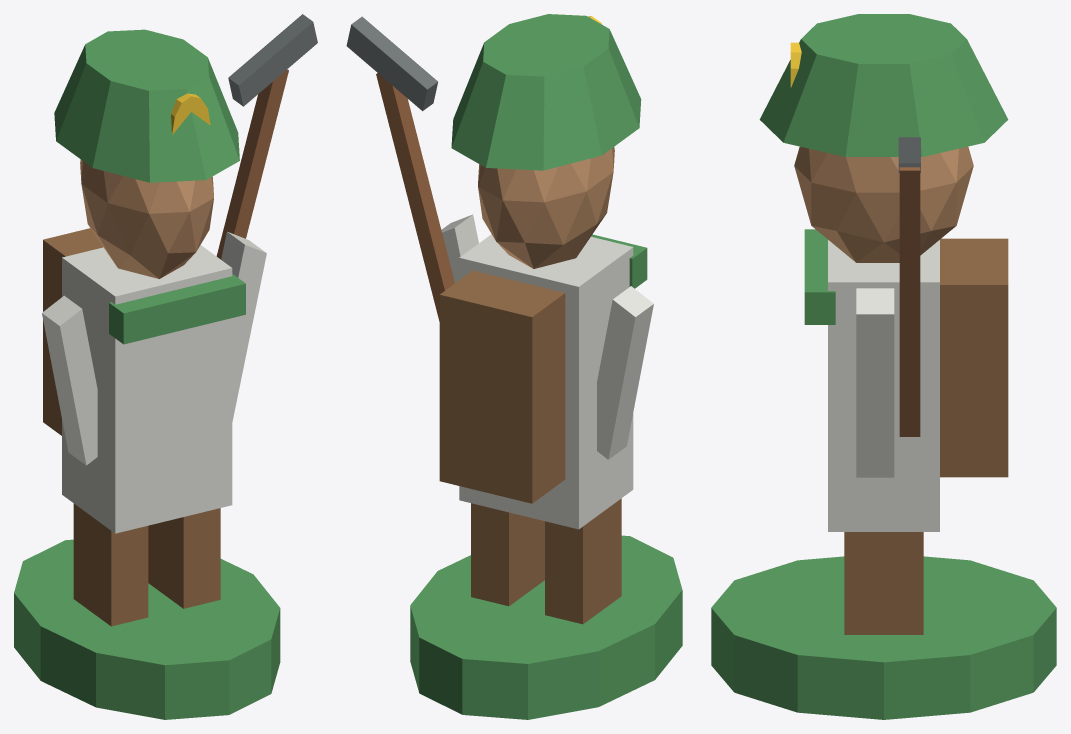
File: peao_garimpeiro_mata.glb
The picture shows the model from 3 angles, left to right: view 1: azimuth 30°, elevation 25°; view 2: azimuth 150°, elevation 25°; view 3: azimuth 270°, elevation 25°; orthographic projection. The views are drawn at different scales.
Visible parts, largest first — view 1: peao_garimpeiro_mata; view 2: peao_garimpeiro_mata; view 3: peao_garimpeiro_mata.
Boxes of the visible parts, left/top/right/bottom form: peao_garimpeiro_mata: left=14, top=14, right=317, bottom=719; peao_garimpeiro_mata: left=346, top=14, right=682, bottom=719; peao_garimpeiro_mata: left=711, top=14, right=1056, bottom=719.
Bounding box in the file's own units: 2 × 4 × 2.
